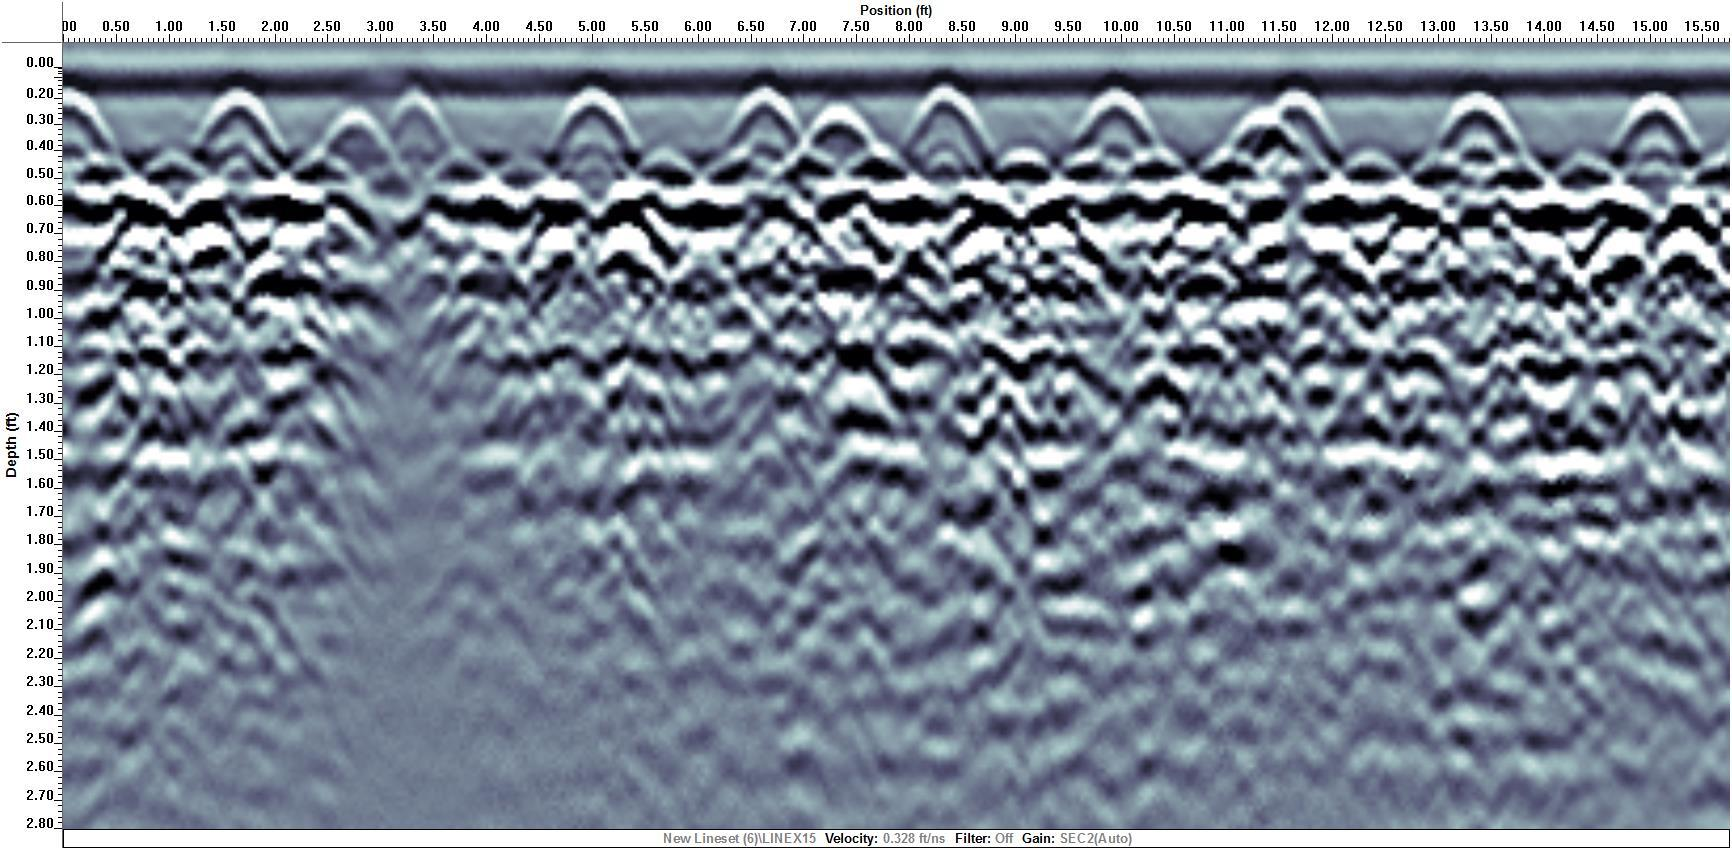hyperbola: (886, 84, 1004, 173), (530, 86, 655, 170), (1415, 92, 1539, 173), (189, 85, 302, 170), (1596, 86, 1709, 170), (1054, 83, 1171, 162), (716, 84, 813, 164)
